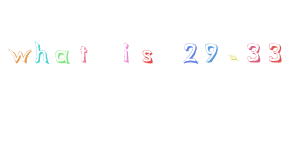-: (223, 51, 241, 67)
2: (179, 32, 203, 70)
3: (267, 37, 285, 72), (243, 38, 266, 64)
9: (203, 41, 220, 67)
a: (55, 46, 73, 70)
h: (31, 36, 51, 69)
i: (113, 36, 138, 72)
s: (137, 40, 157, 68)
t: (77, 42, 93, 69)
w: (5, 42, 31, 68)
